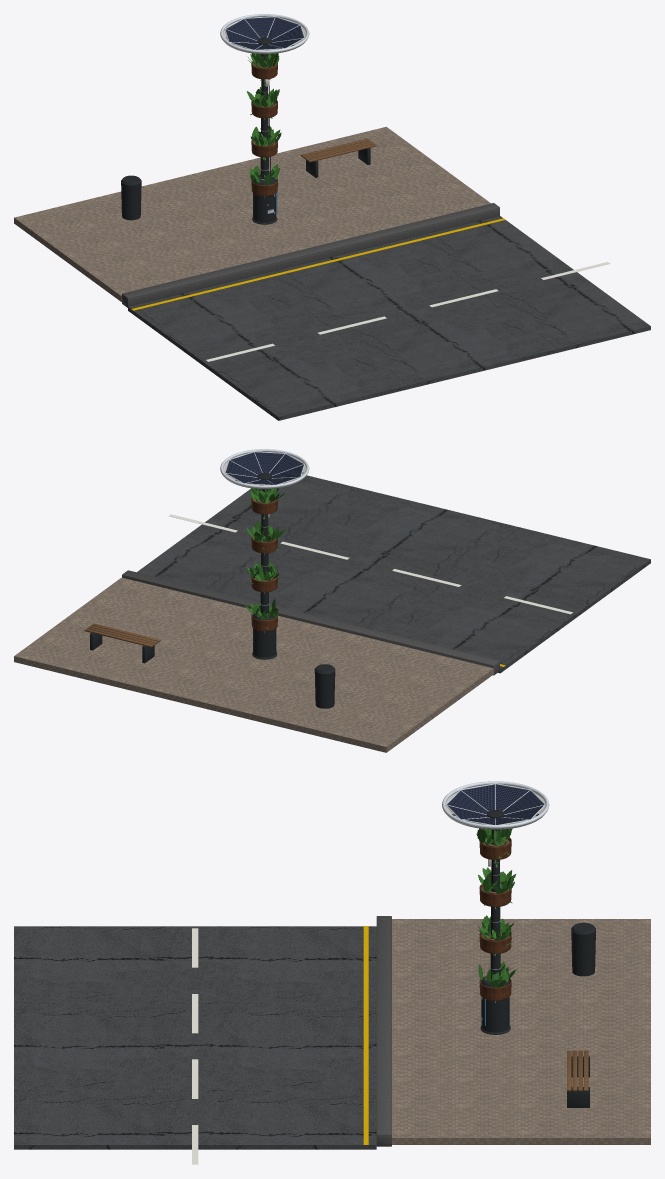
Rendered from plantpost.glb.
3 views of the same model, one above another, from view 1: azimuth 30°, elevation 25°; view 2: azimuth 150°, elevation 25°; view 3: azimuth 270°, elevation 25° (orthographic). The views are drawn at different scales.
Parts seen in each view (by area): view 1: Street, PV_Canopy, Post; view 2: Street, PV_Canopy, Post; view 3: Street, PV_Canopy, Post, Tier_3_Plants.
Boxes of the visible parts, x1,y1,x2,y2 form: Street: (14,126,650,420); PV_Canopy: (220,14,309,54); Post: (252,54,277,224); Street: (14,475,650,752); PV_Canopy: (220,449,309,489); Post: (252,489,277,659); Street: (14,916,650,1164); PV_Canopy: (442,781,549,829); Post: (480,829,510,1034); Tier_3_Plants: (478,867,516,905).
Size of the model in its own units: 10.9 by 5.05 by 12.3.
20 materials, 15 textured.
